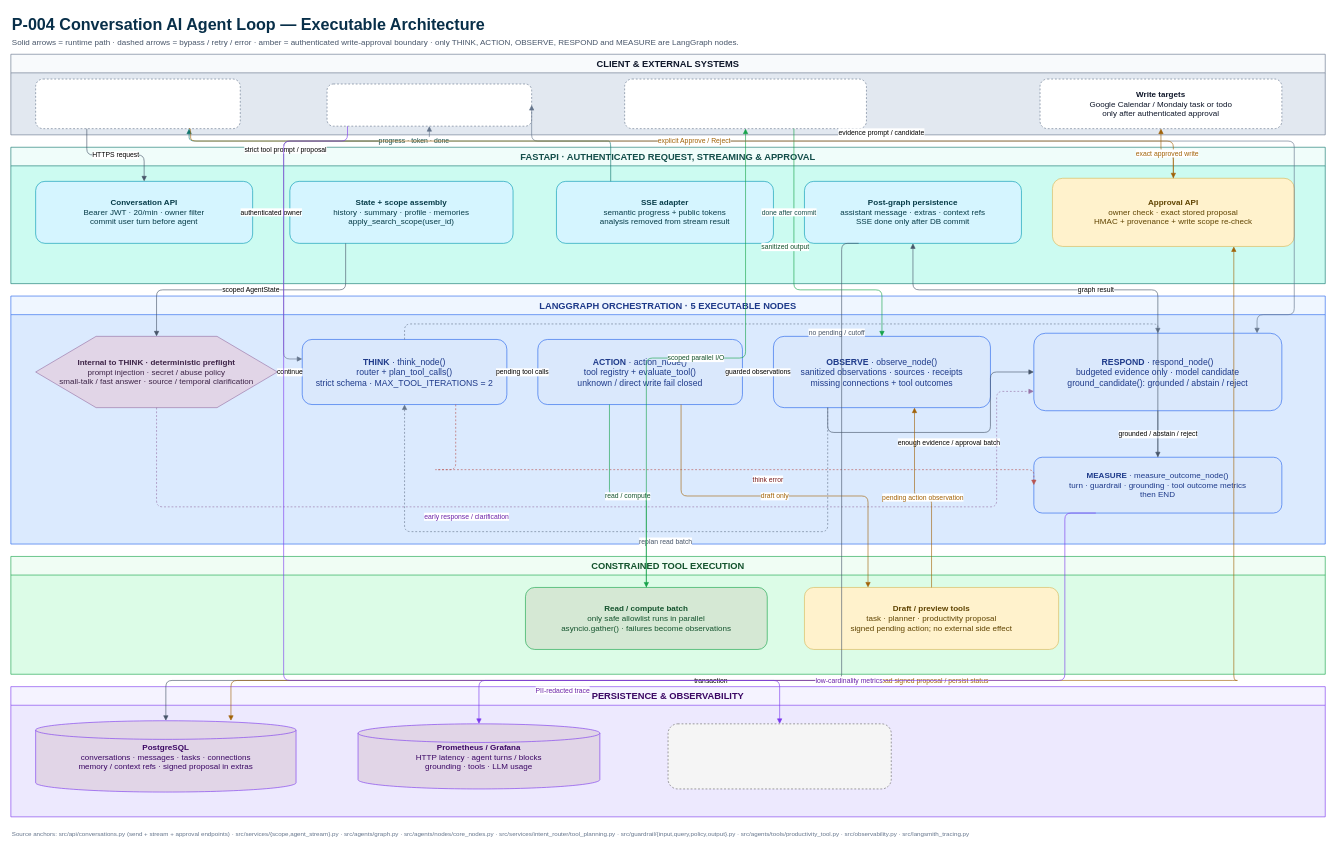
The diagram is 1336 pixels wide and 864 high, and some of its shapes have lost their labels. Each missing label, with the centre of its shape:
"LangSmith tracing global PII anonymizer optional hide inputs / outputs" goes at (x=779, y=756).
"LLM provider work_tool + work_response lanes" goes at (x=429, y=104).
"Read sources Discord · Gmail · Calendar · Jira Drive · Sheets / Docs · Web" goes at (x=745, y=103).
"Web client authenticated conversation request explicit Approve / Reject UI" goes at (x=137, y=103).
